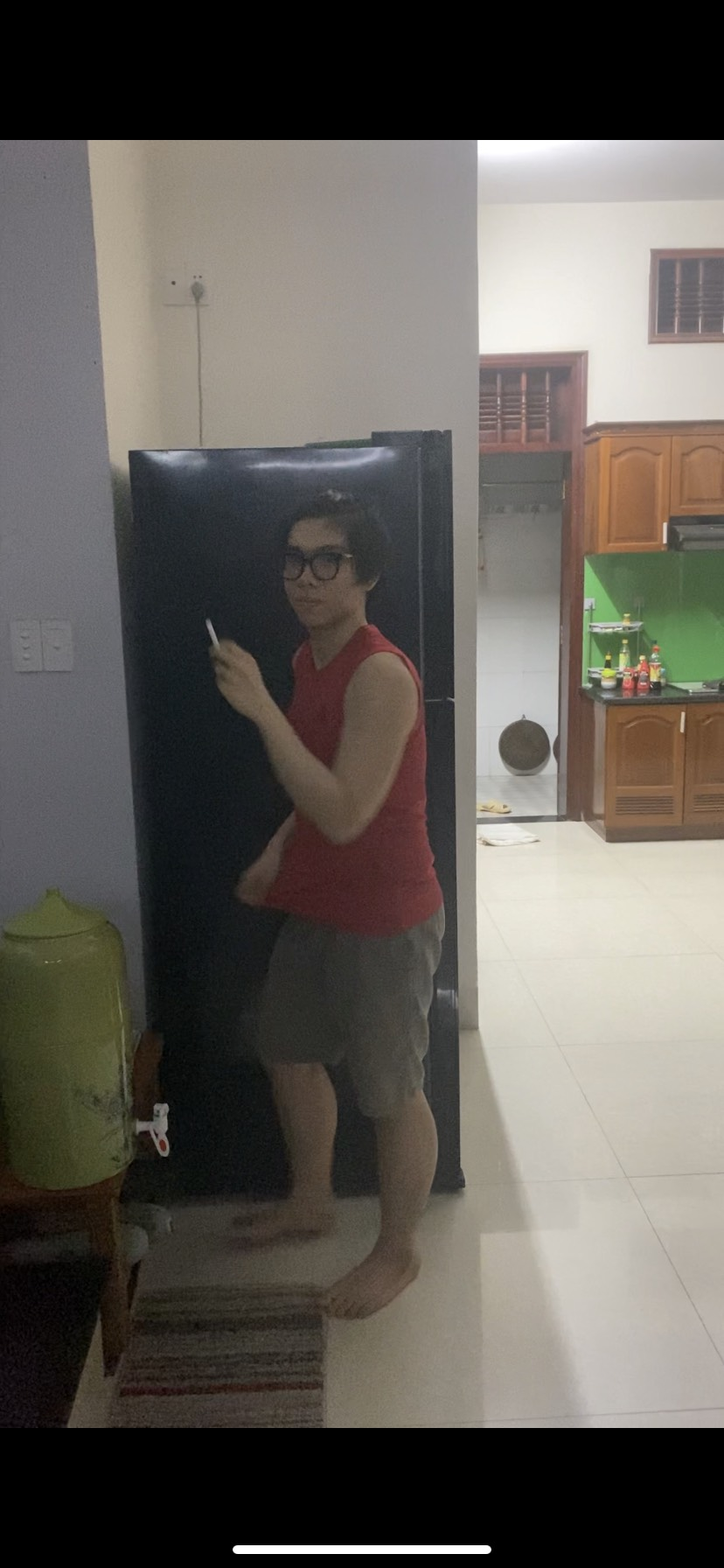cigarette: (200, 614, 223, 652)
person: (210, 462, 448, 1370)
